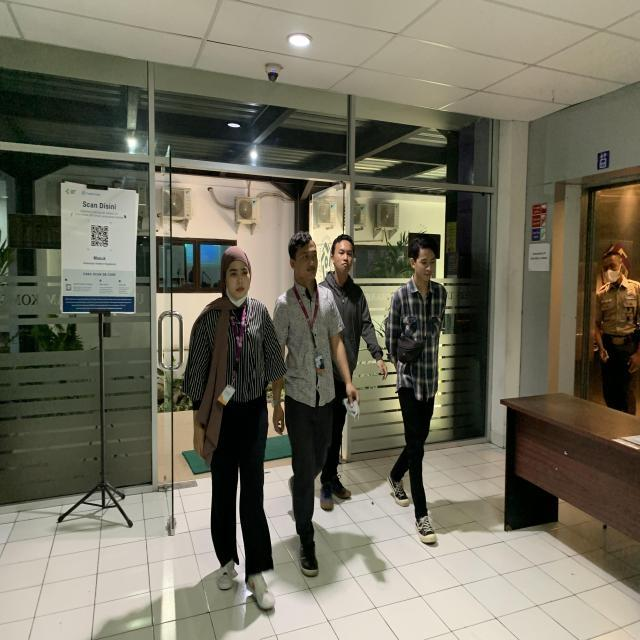hairnet: (214, 247, 254, 300)
